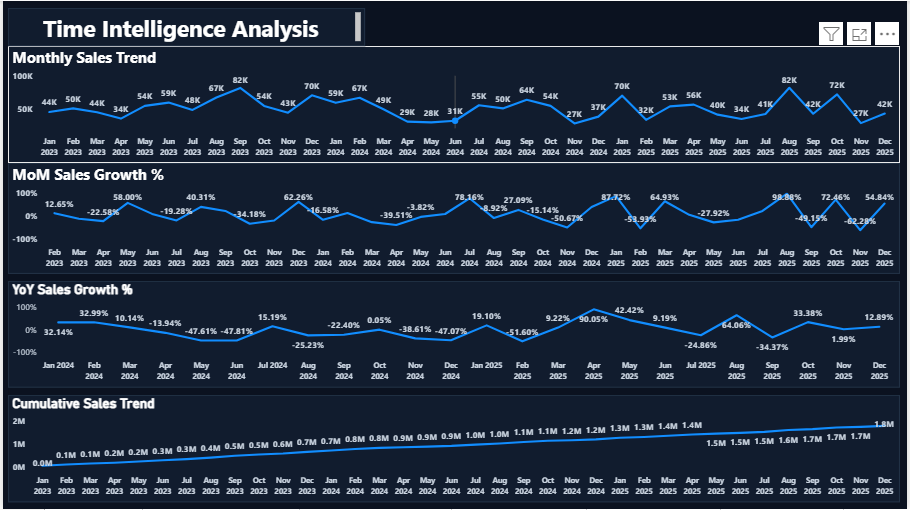

The page's visual inventory and layout, read from the dashboard file:
{"tool":"powerbi","page":{"name":"Time Intelligence","canvas":[1280,720],"ordinal":4},"visuals":[{"type":"lineChart","title":"Monthly Sales Trend","fields":{"Category":["Dim_Date.Month Year label"],"Y":["Sum(Fact_Sales.Sales)"]},"box":[7.1,63.8,1264.3,165.8],"z":0},{"type":"textbox","box":[7.1,9.9,506,53.9],"z":1000},{"type":"lineChart","title":"MoM Sales Growth %","fields":{"Y":["ALL_DAX.MOM Sales Growth %"],"Category":["Dim_Date.Month Year label"]},"box":[7.1,229.6,1264.3,157.3],"z":2000},{"type":"lineChart","title":"YoY Sales Growth %","fields":{"Y":["ALL_DAX.YoY Sales Growth %"],"Category":["Dim_Date.Month Year label"]},"box":[7.1,396.9,1264.3,151],"z":3000},{"type":"lineChart","title":"Cumulative Sales Trend","fields":{"Y":["ALL_DAX.Cummulative Sales"],"Category":["Dim_Date.Month Year label"]},"box":[7.1,558.4,1264.3,151.7],"z":4000}]}

Visuals, with their boxes in screenshot pixels (x1, y1, x2, y2), scaled from the page's 1280x720 canvas onto the 910x510 screenshot:
"Monthly Sales Trend" lineChart: rect(5, 45, 904, 163)
textbox: rect(5, 7, 365, 45)
"MoM Sales Growth %" lineChart: rect(5, 163, 904, 274)
"YoY Sales Growth %" lineChart: rect(5, 281, 904, 388)
"Cumulative Sales Trend" lineChart: rect(5, 396, 904, 503)
